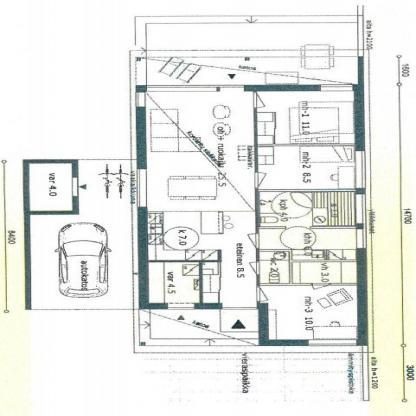bathroom: (259, 191, 364, 250)
door: (245, 231, 266, 252), (251, 285, 271, 306), (249, 92, 266, 111), (245, 259, 262, 276), (250, 171, 264, 190)
perimeter: (142, 86, 364, 345)
window: (132, 168, 153, 210), (351, 150, 367, 192), (303, 336, 361, 346), (352, 193, 366, 226), (133, 88, 152, 110), (161, 301, 198, 312), (315, 83, 354, 93), (352, 226, 368, 250)
